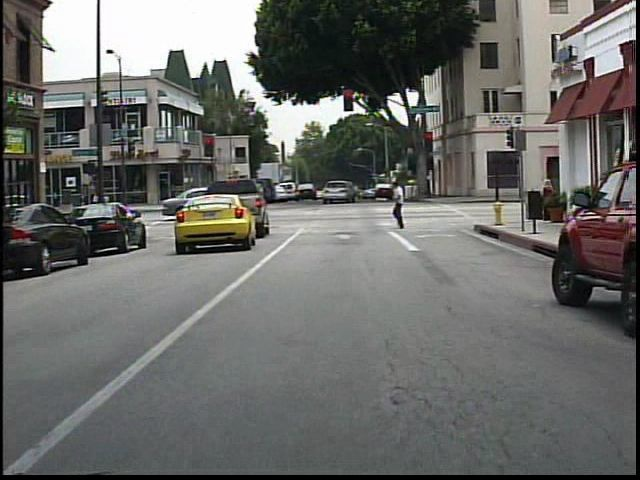person: (388, 180, 414, 231), (538, 175, 559, 197)
